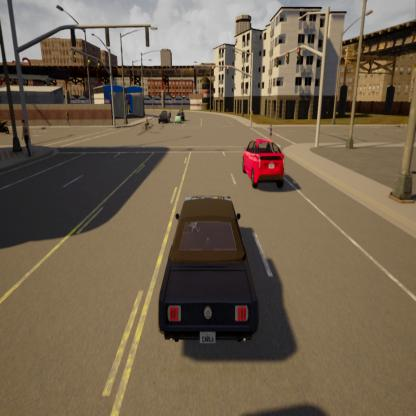Cars: (156, 193, 261, 356), (242, 138, 288, 192), (140, 112, 154, 136), (158, 109, 169, 124), (175, 113, 183, 127)
Pedestrian: (19, 118, 33, 154)
